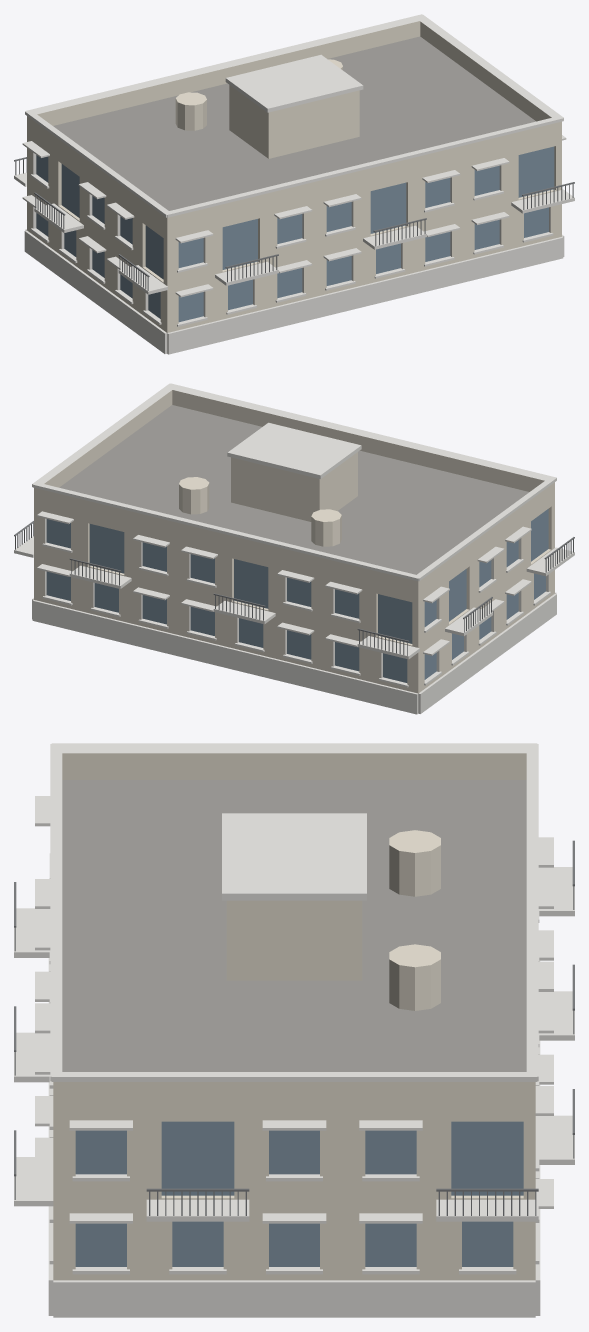
Rendered from West_Building_4.fbx.
The picture shows the model from 3 angles, top to bottom: view 1: azimuth 30°, elevation 25°; view 2: azimuth 150°, elevation 25°; view 3: azimuth 270°, elevation 25°; orthographic projection. The views are drawn at different scales.
Visible parts, largest first — view 1: West_Building_4; view 2: West_Building_4; view 3: West_Building_4.
Part boxes in pixels (box(x1,y1,x2,y2)): West_Building_4: box(14, 14, 574, 354); West_Building_4: box(14, 383, 574, 714); West_Building_4: box(14, 743, 574, 1317).
Size of the model in its own units: 28.6 by 10.85 by 18.6.
